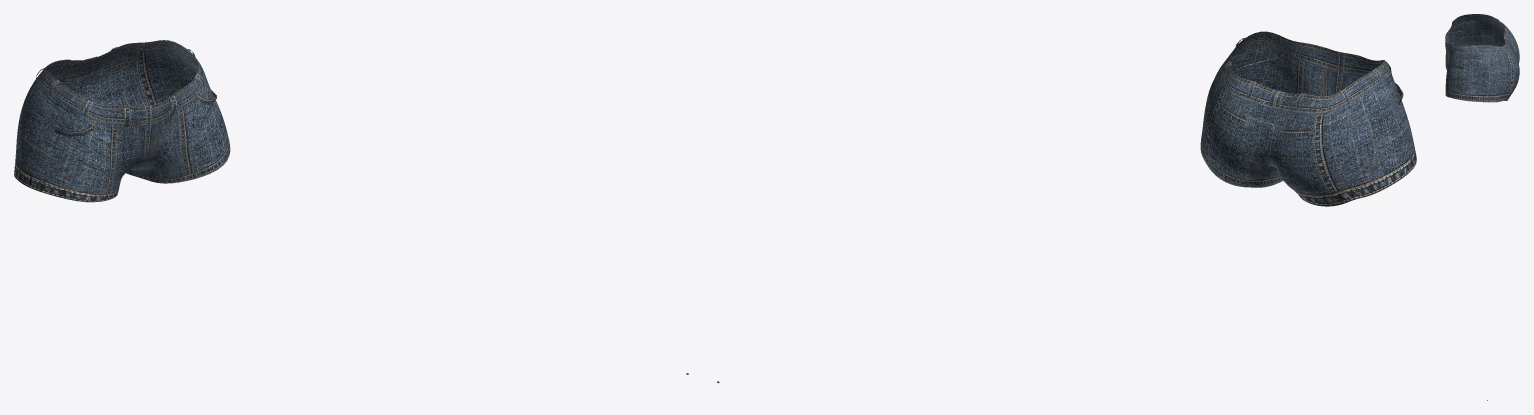
Rendered from bottom01.glb.
The picture shows the model from 3 angles, left to right: view 1: azimuth 30°, elevation 25°; view 2: azimuth 150°, elevation 25°; view 3: azimuth 270°, elevation 25°; orthographic projection. The views are drawn at different scales.
Parts seen in each view (by area): view 1: Object_2.002; view 2: Object_2.002; view 3: Object_2.002.
Boxes of the visible parts, x1,y1,x2,y2 form: Object_2.002: (14,40,230,202); Object_2.002: (1200,31,1416,206); Object_2.002: (1445,14,1519,102).
Bounding box in the file's own units: 1.77 × 1.15 × 0.3357.
2 materials, 2 textured.
